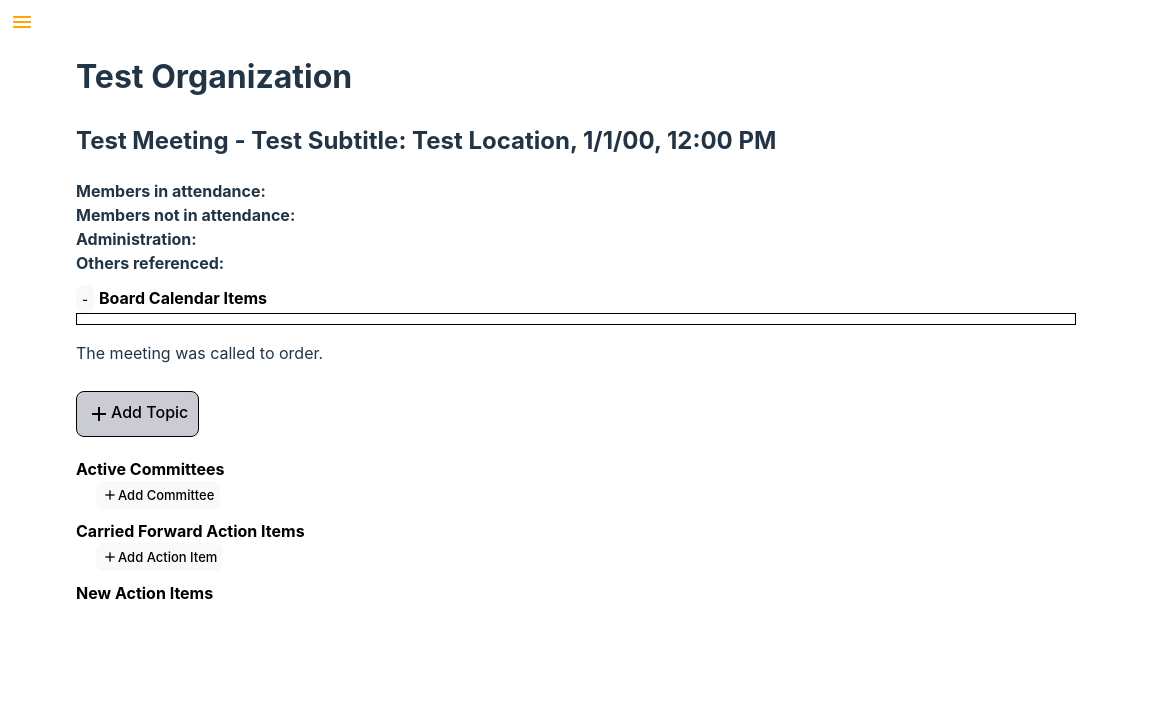
Test: metadata › allows editing the organization name
Hover over the heading "Test Organization".
mouse_move(214, 77)  # box [76,57,352,96]
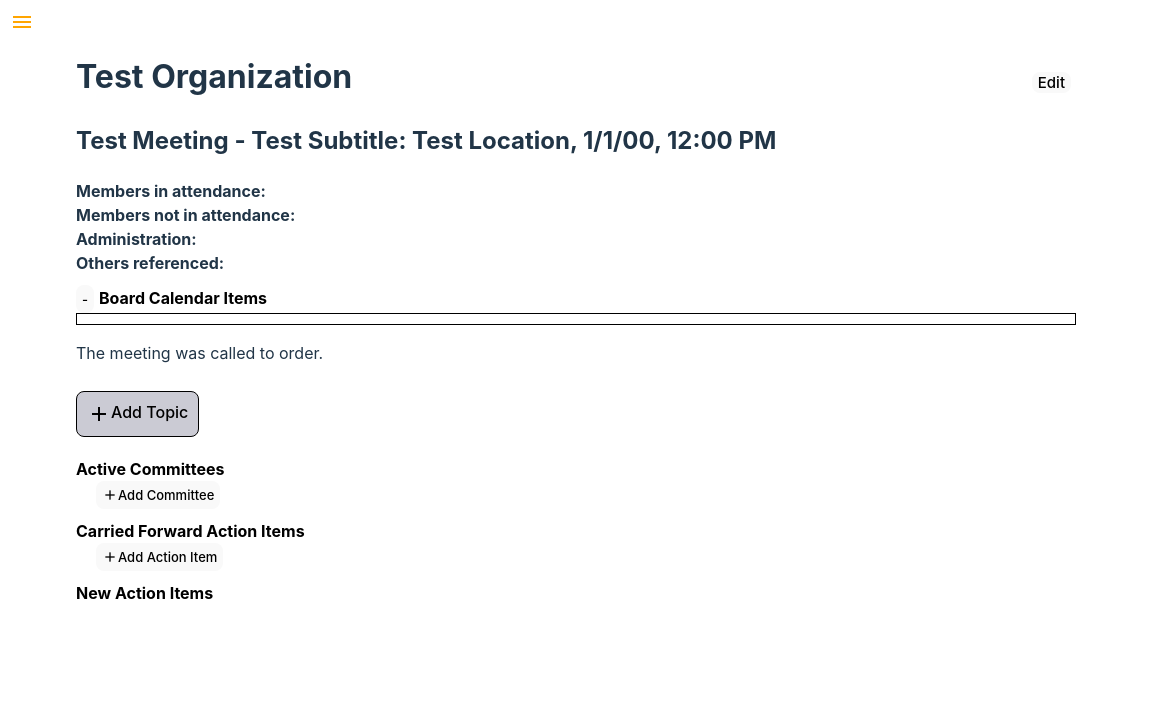
Click the button "Edit".
click(1051, 83)  # box [1032,72,1071,93]
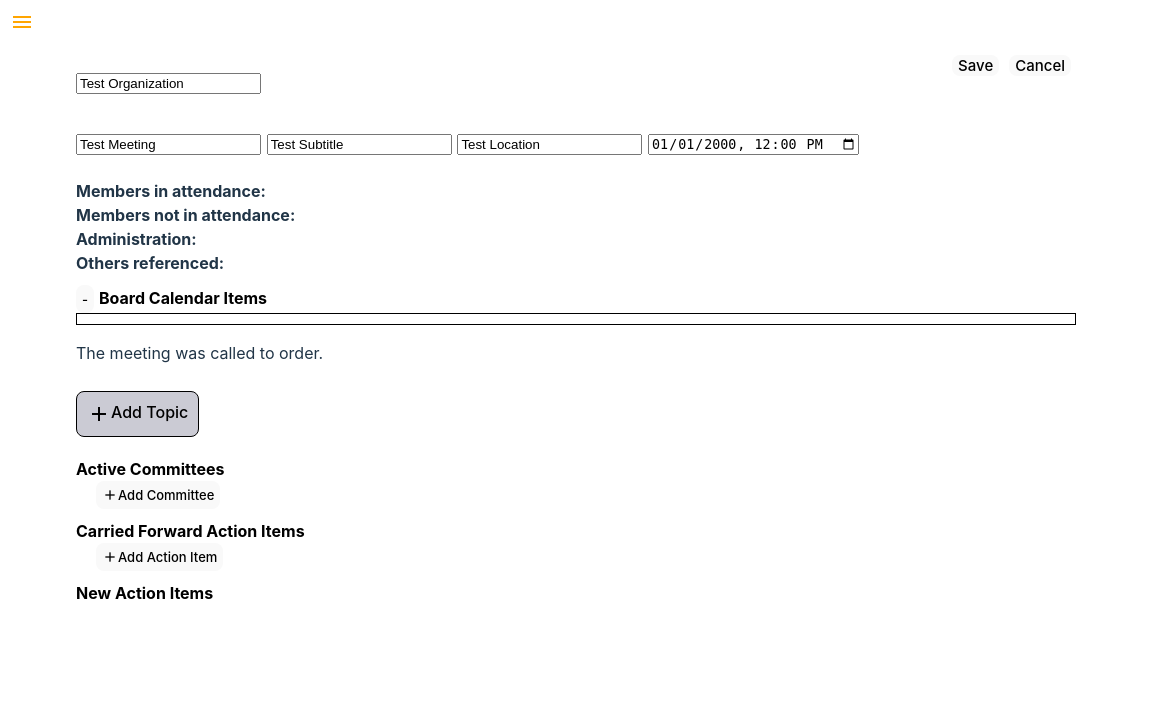
Replace the text in the field named "Organization" with "New Organization" at (168, 84), box [76,73,261,94]
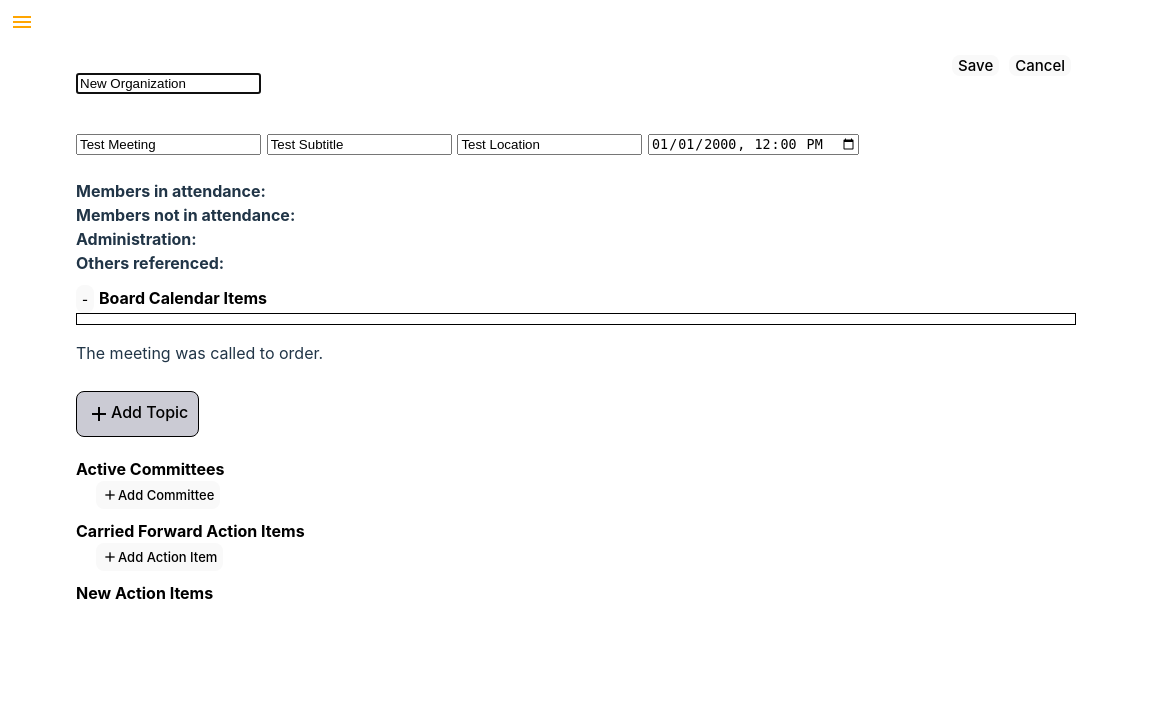
Click the button "Save".
click(976, 66)  # box [952,55,999,76]
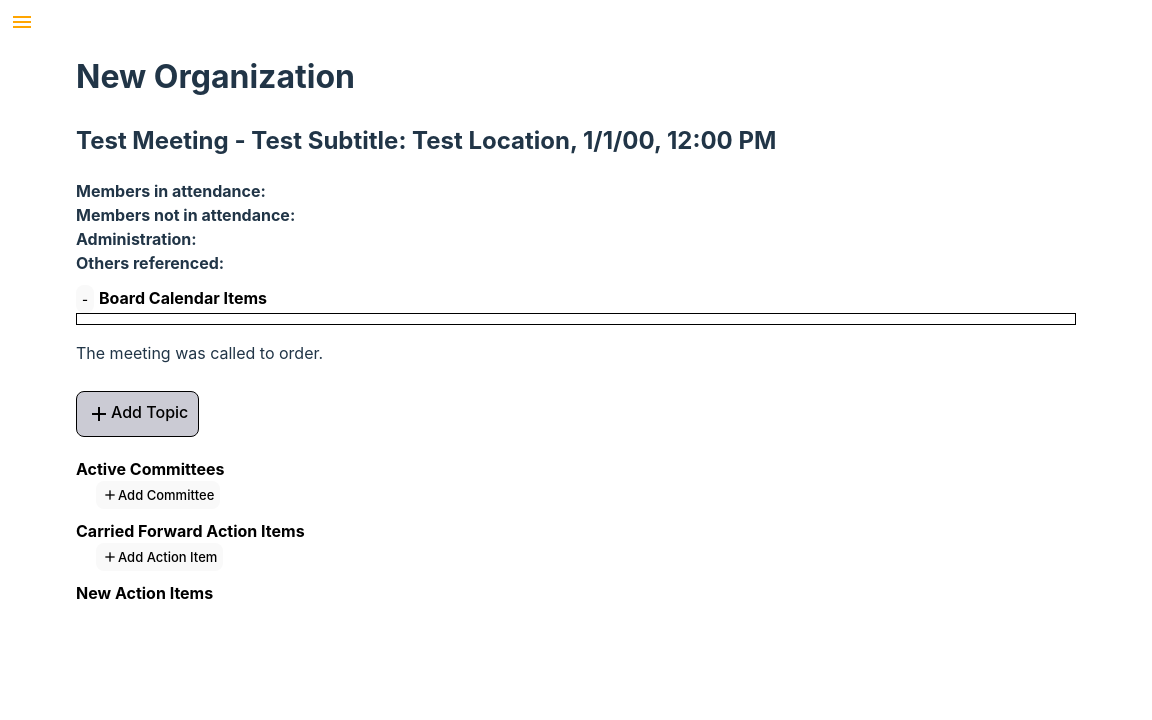
Now the heading "New Organization" is shown, box [76,57,355,96]
